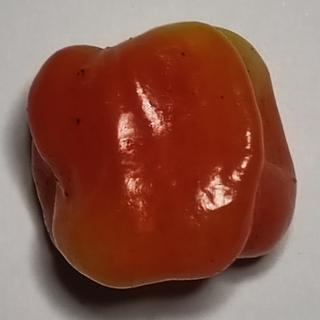Fly-bites: (73, 62, 90, 82), (72, 115, 86, 131)
